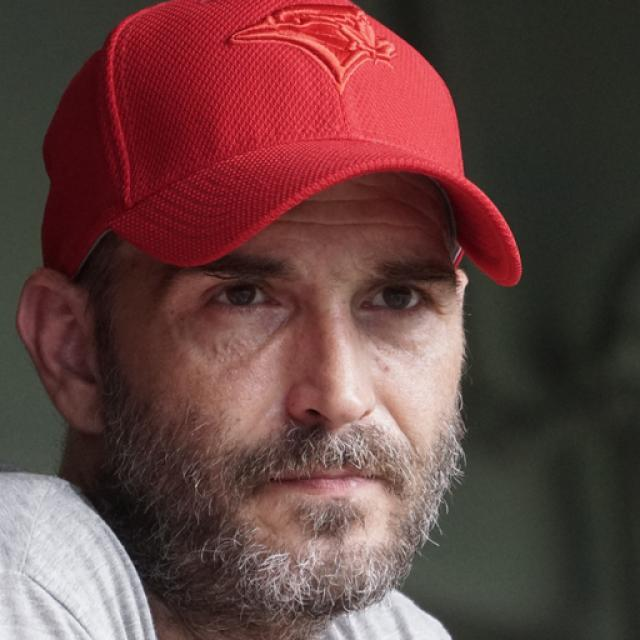neutral: (90, 162, 466, 618)
